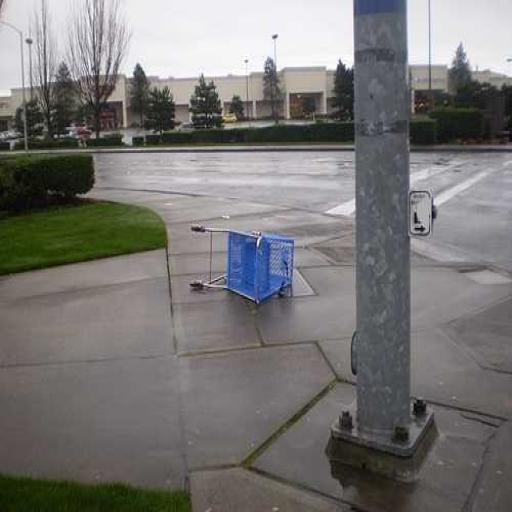shopping_cart: (186, 222, 296, 307)
